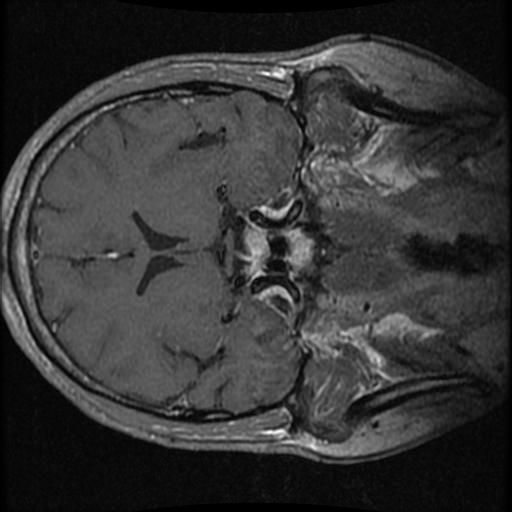pituitary tumour: (245, 227, 268, 277)
